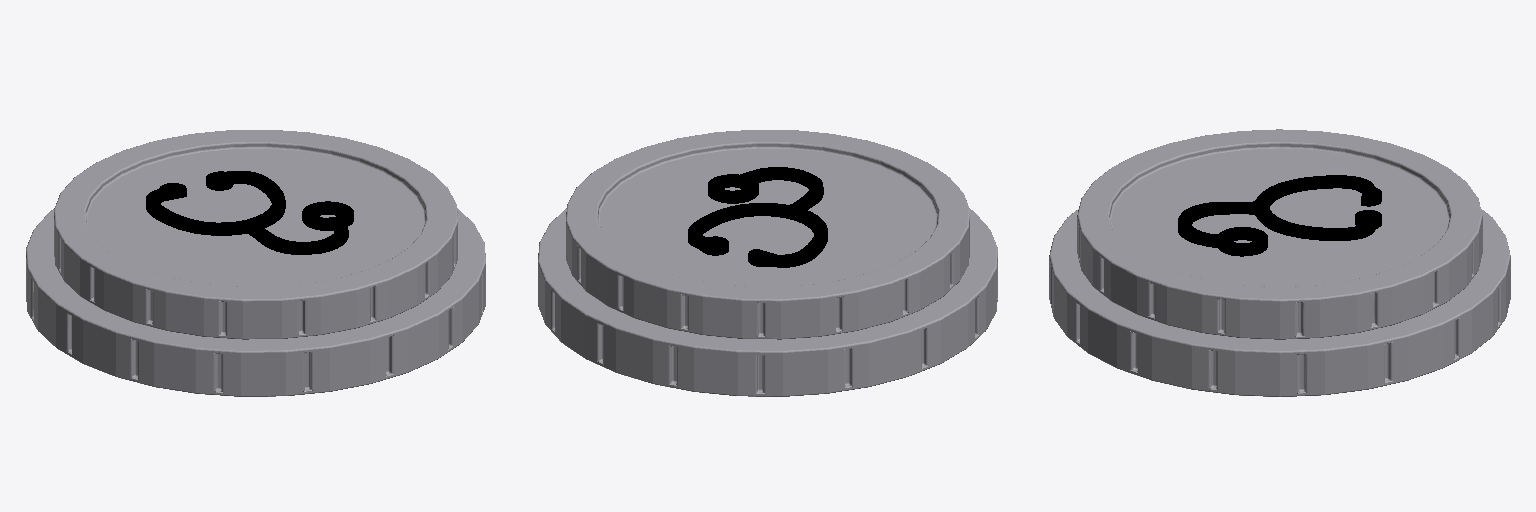
Rendered from podiumD.obj.
3 renders of one model, left to right at view 1: azimuth 30°, elevation 25°; view 2: azimuth 150°, elevation 25°; view 3: azimuth 270°, elevation 25°, orthographic.
Visible parts, largest first — view 1: Base.003, Curve.011; view 2: Base.003, Curve.011; view 3: Base.003, Curve.011.
Part boxes in pixels (x1,y1,x2,y2): Base.003: (26,130,485,396); Curve.011: (146,171,353,254); Base.003: (538,130,997,396); Curve.011: (688,167,827,267); Base.003: (1049,129,1510,396); Curve.011: (1178,175,1381,256).
Bounding box in the file's own units: 6.37 × 1.35 × 6.37.